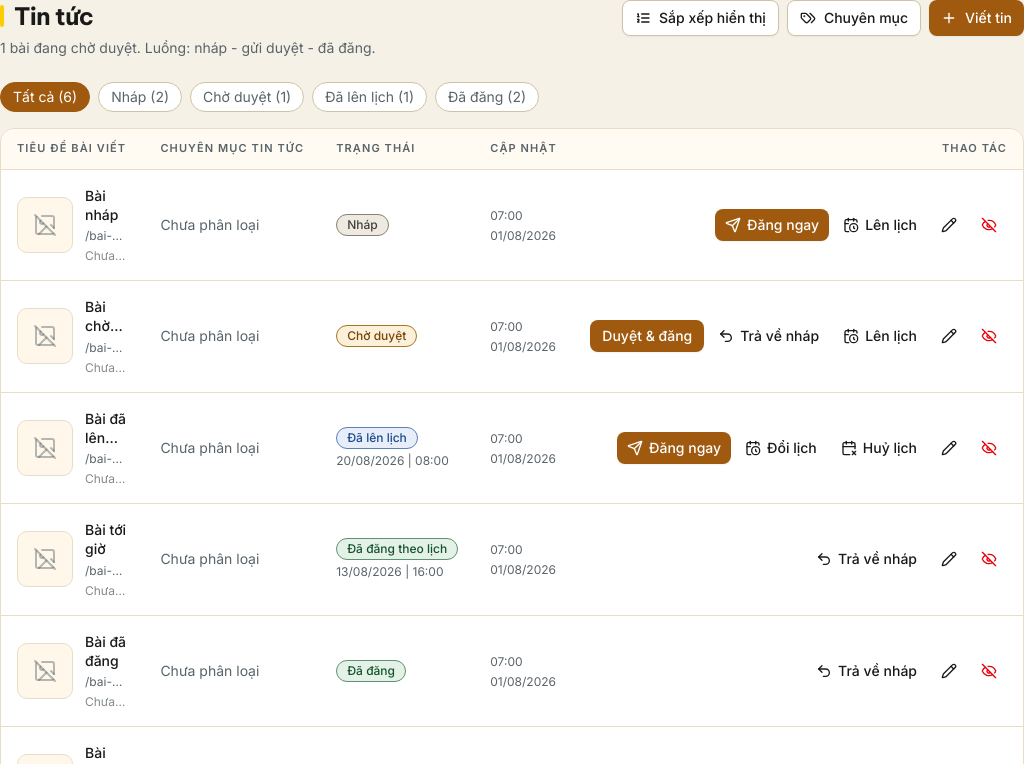
NewsPage — bộ lọc theo trạng thái › lọc rồi thì bảng chỉ còn bài có lịch, gần nhất lên trước
Click the button "Đã lên lịch (1)" at x=370, y=97, box [312,82,427,112]
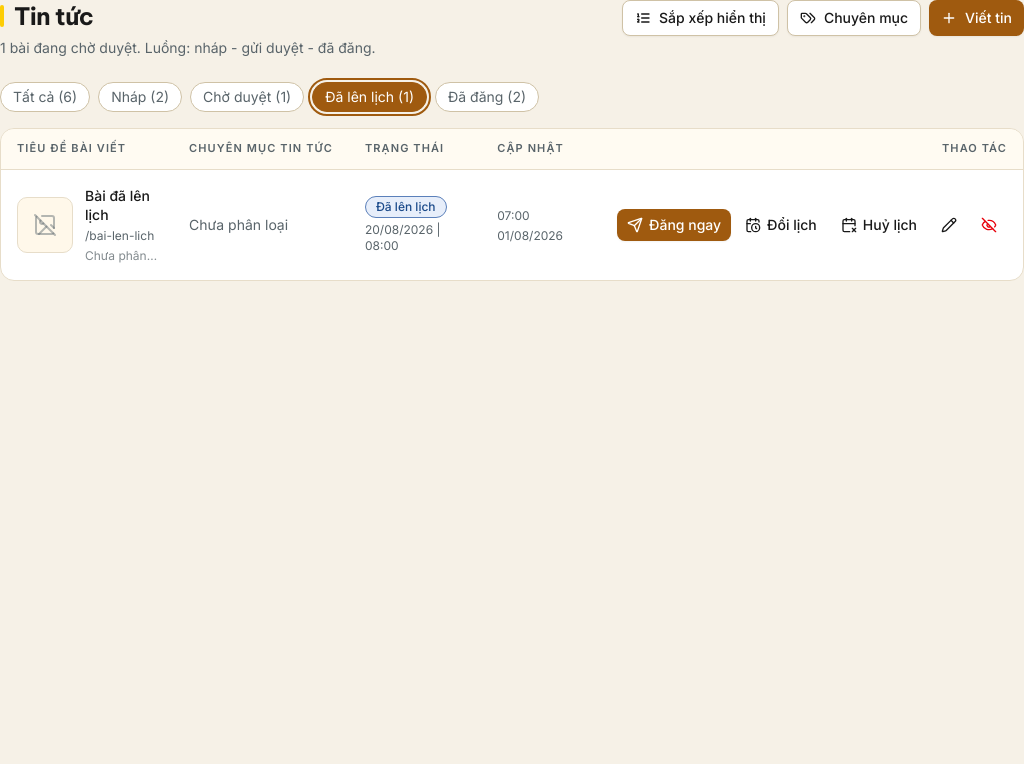
Expected: the text "Bài đã lên lịch" is shown, [85,186,157,224]
Now the text "Bài nháp" is gone
Now the text "Bài tới giờ" is gone
